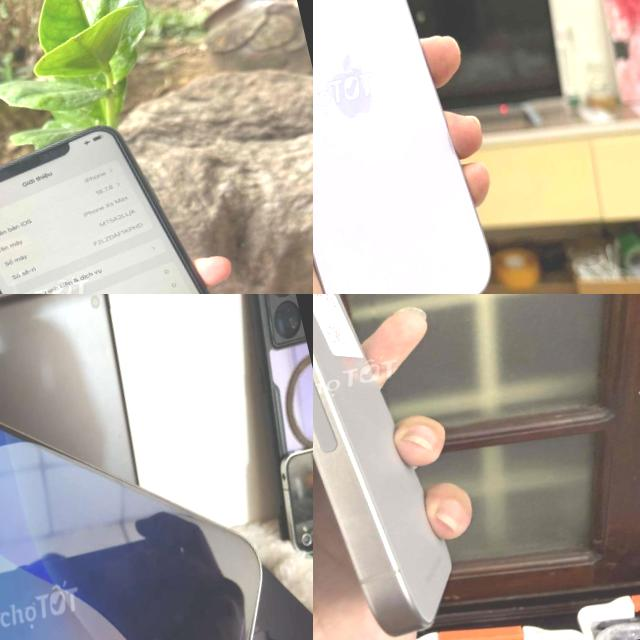gen_15: (0, 295, 313, 640), (313, 294, 483, 640)
gen_17: (313, 0, 514, 294)
gen_x_xs: (0, 92, 294, 294)
scratch: (174, 536, 190, 564)
